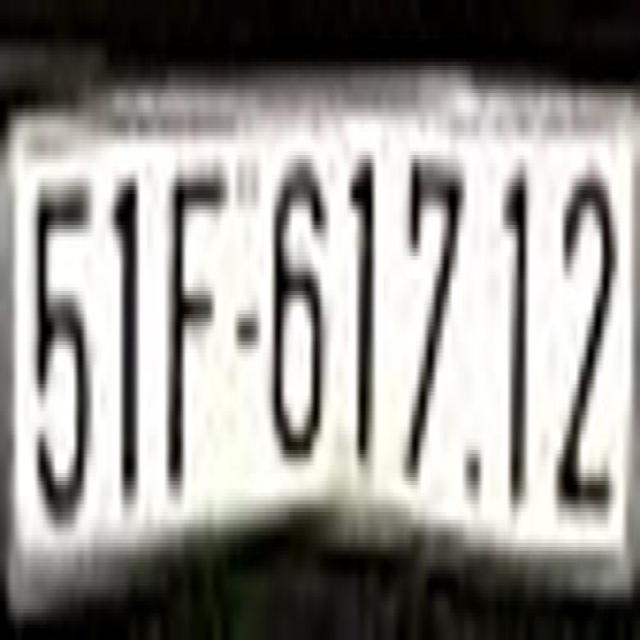1: (501, 152, 528, 536), (350, 159, 378, 454), (116, 167, 140, 508)
2: (556, 163, 617, 512)
5: (31, 167, 94, 520)
6: (276, 159, 328, 454)
7: (404, 143, 464, 466)
F: (166, 148, 229, 474)
